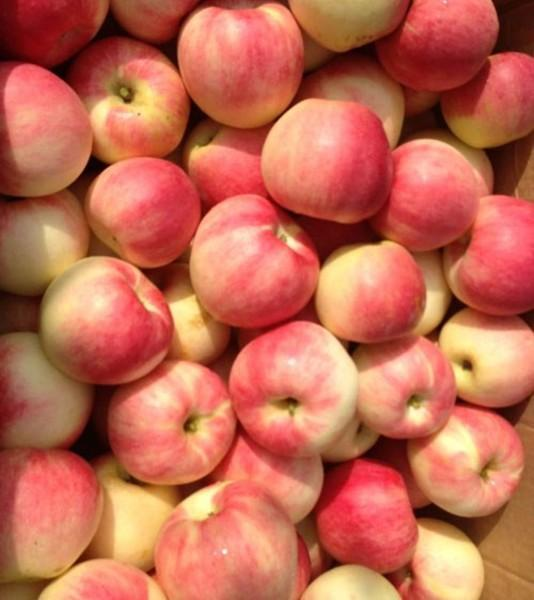apple: (150, 480, 313, 600), (38, 256, 174, 389), (190, 196, 323, 328), (230, 321, 359, 457), (263, 97, 391, 227), (106, 358, 235, 484), (68, 37, 193, 166), (178, 3, 306, 128), (1, 446, 104, 585), (407, 406, 527, 519), (83, 157, 202, 270), (1, 61, 93, 201), (379, 132, 487, 246), (316, 239, 428, 346), (313, 456, 416, 572), (445, 191, 534, 318), (376, 1, 500, 92), (351, 334, 454, 441), (439, 305, 533, 412), (296, 56, 405, 148), (436, 50, 534, 149), (1, 191, 89, 295), (182, 120, 275, 205), (289, 1, 403, 59), (1, 1, 109, 62)
